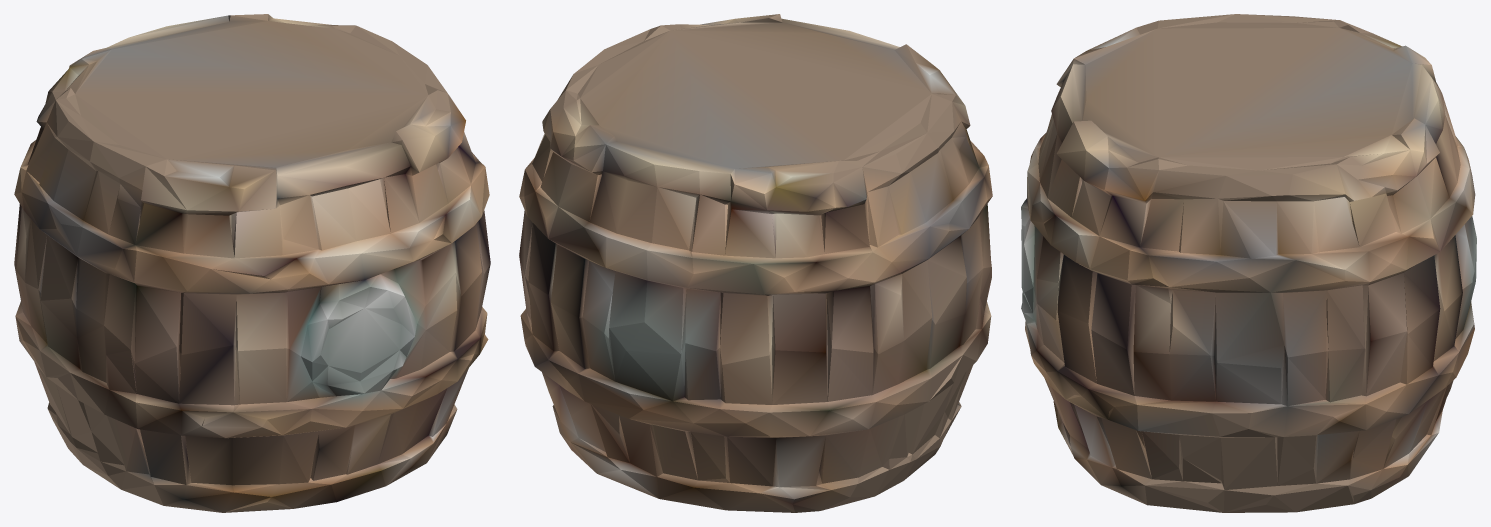
Rendered from fici.glb.
3 renders of one model, left to right at view 1: azimuth 30°, elevation 25°; view 2: azimuth 150°, elevation 25°; view 3: azimuth 270°, elevation 25°, orthographic.
Parts seen in each view (by area): view 1: geometry_0; view 2: geometry_0; view 3: geometry_0.
Boxes of the visible parts, x1,y1,x2,y2 form: geometry_0: [14, 14, 490, 512]; geometry_0: [519, 14, 992, 512]; geometry_0: [1021, 14, 1476, 512].
Size of the model in its own units: 1.18 by 1 by 1.19.
